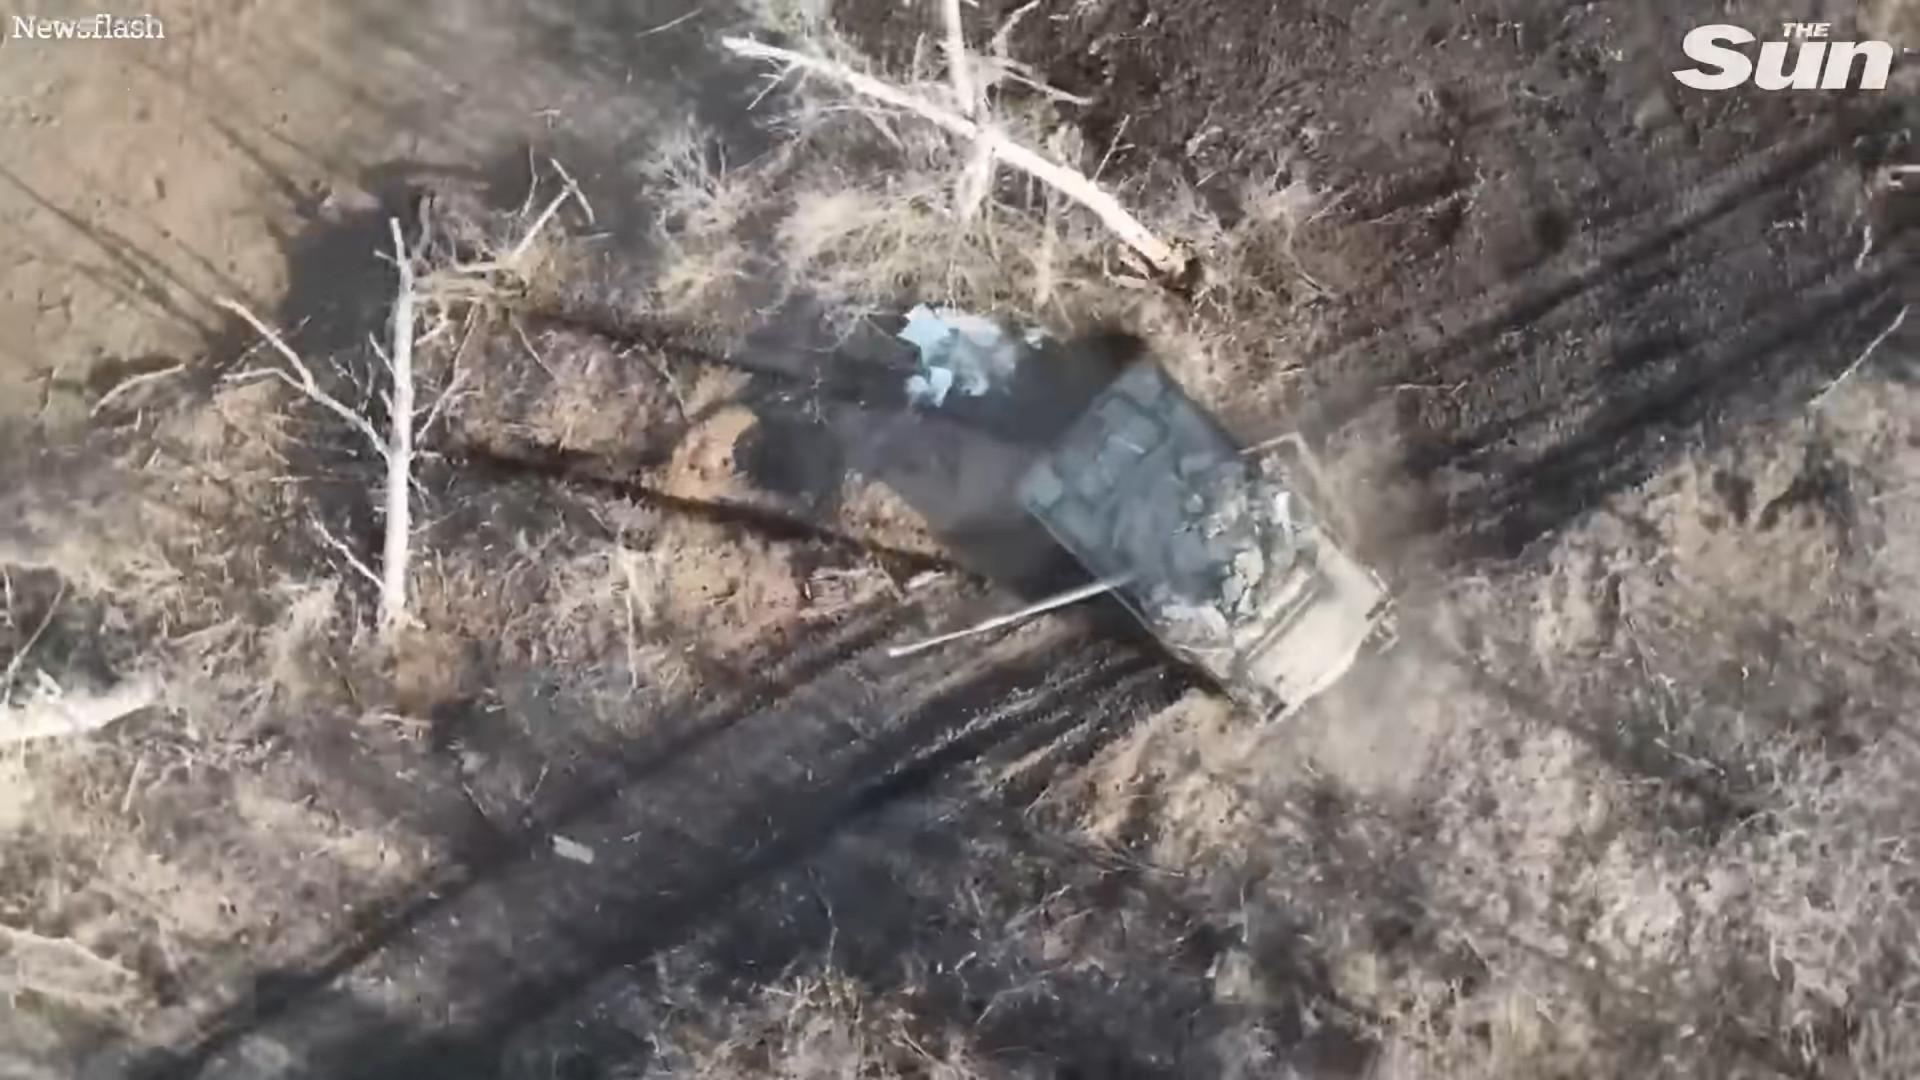tank: (887, 351, 1394, 729)
